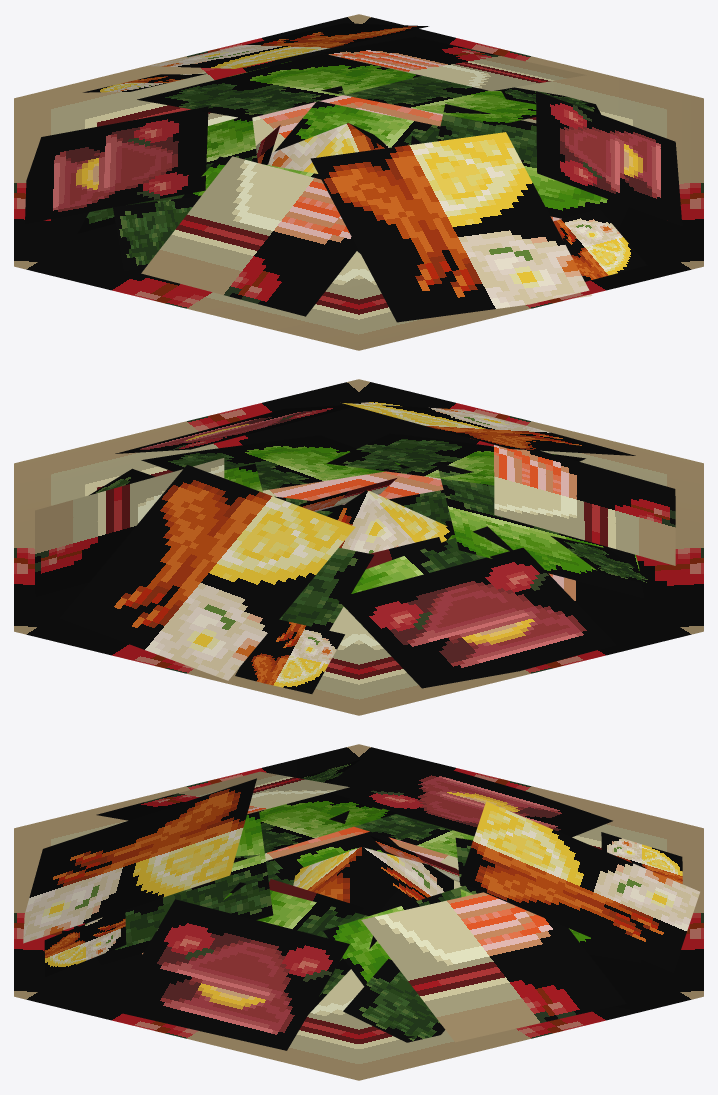
The picture shows the model from 3 angles, top to bottom: view 1: azimuth 30°, elevation 25°; view 2: azimuth 150°, elevation 25°; view 3: azimuth 270°, elevation 25°; orthographic projection.
Parts seen in each view (by area): view 1: 3630dec_party; view 2: 3630dec_party; view 3: 3630dec_party.
Part boxes in pixels (x1,y1,x2,y2): 3630dec_party: (14,14,703,350); 3630dec_party: (14,379,703,715); 3630dec_party: (14,744,703,1080).
Size of the model in its own units: 0.8472 by 0.1277 by 0.7339.
Materials: 4 (4 with a texture image).
